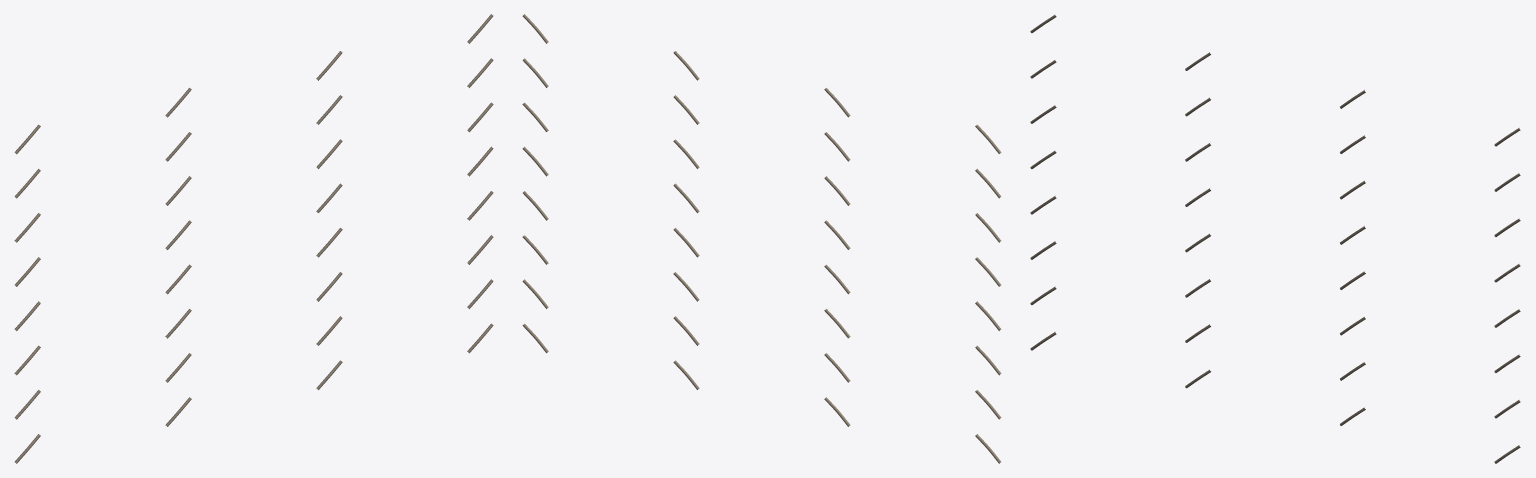
Rendered from mia-wall_marks.glb.
3 renders of one model, left to right at view 1: azimuth 30°, elevation 25°; view 2: azimuth 150°, elevation 25°; view 3: azimuth 330°, elevation 25°, orthographic. The views are drawn at different scales.
Parts seen in each view (by area): view 1: Body_mattress-seam; view 2: Body_mattress-seam; view 3: Body_mattress-seam.
Boxes of the visible parts, left/top/right/bottom form: Body_mattress-seam: left=14, top=14, right=493, bottom=463; Body_mattress-seam: left=522, top=14, right=1001, bottom=463; Body_mattress-seam: left=1030, top=15, right=1520, bottom=463.
Bounding box in the file's own units: 1.59 × 1.06 × 0.011.
